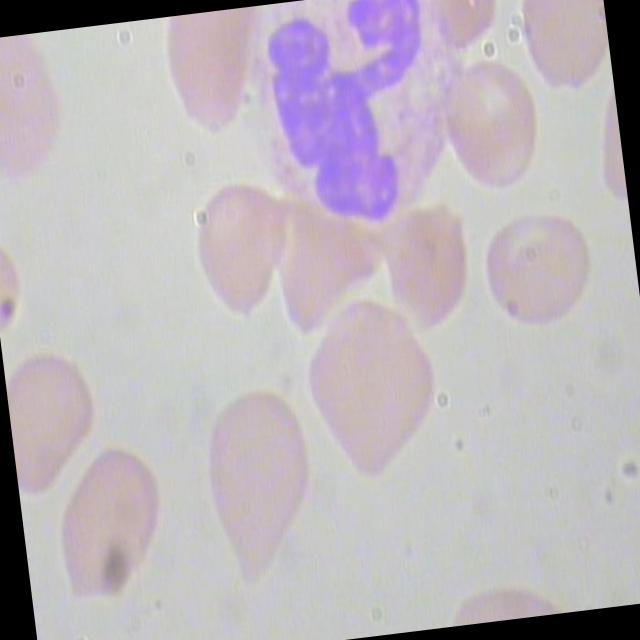RBC: (297, 282, 459, 493), (184, 382, 328, 594), (45, 436, 178, 614), (172, 176, 305, 354), (146, 7, 278, 184), (469, 198, 614, 338), (434, 48, 554, 198), (2, 340, 105, 499), (0, 29, 89, 205), (516, 0, 614, 99)
WBC: (234, 0, 482, 242)
